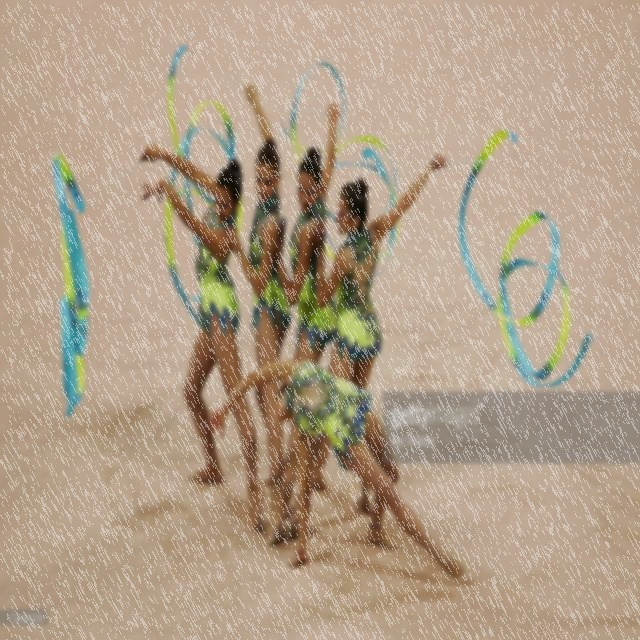pessoa: (284, 150, 450, 542), (202, 353, 468, 582), (137, 138, 266, 536), (217, 82, 294, 540), (266, 96, 344, 544)
